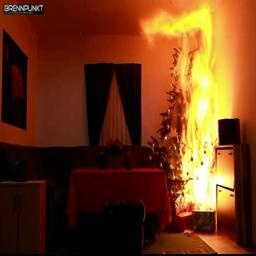fire: (134, 0, 250, 223)
